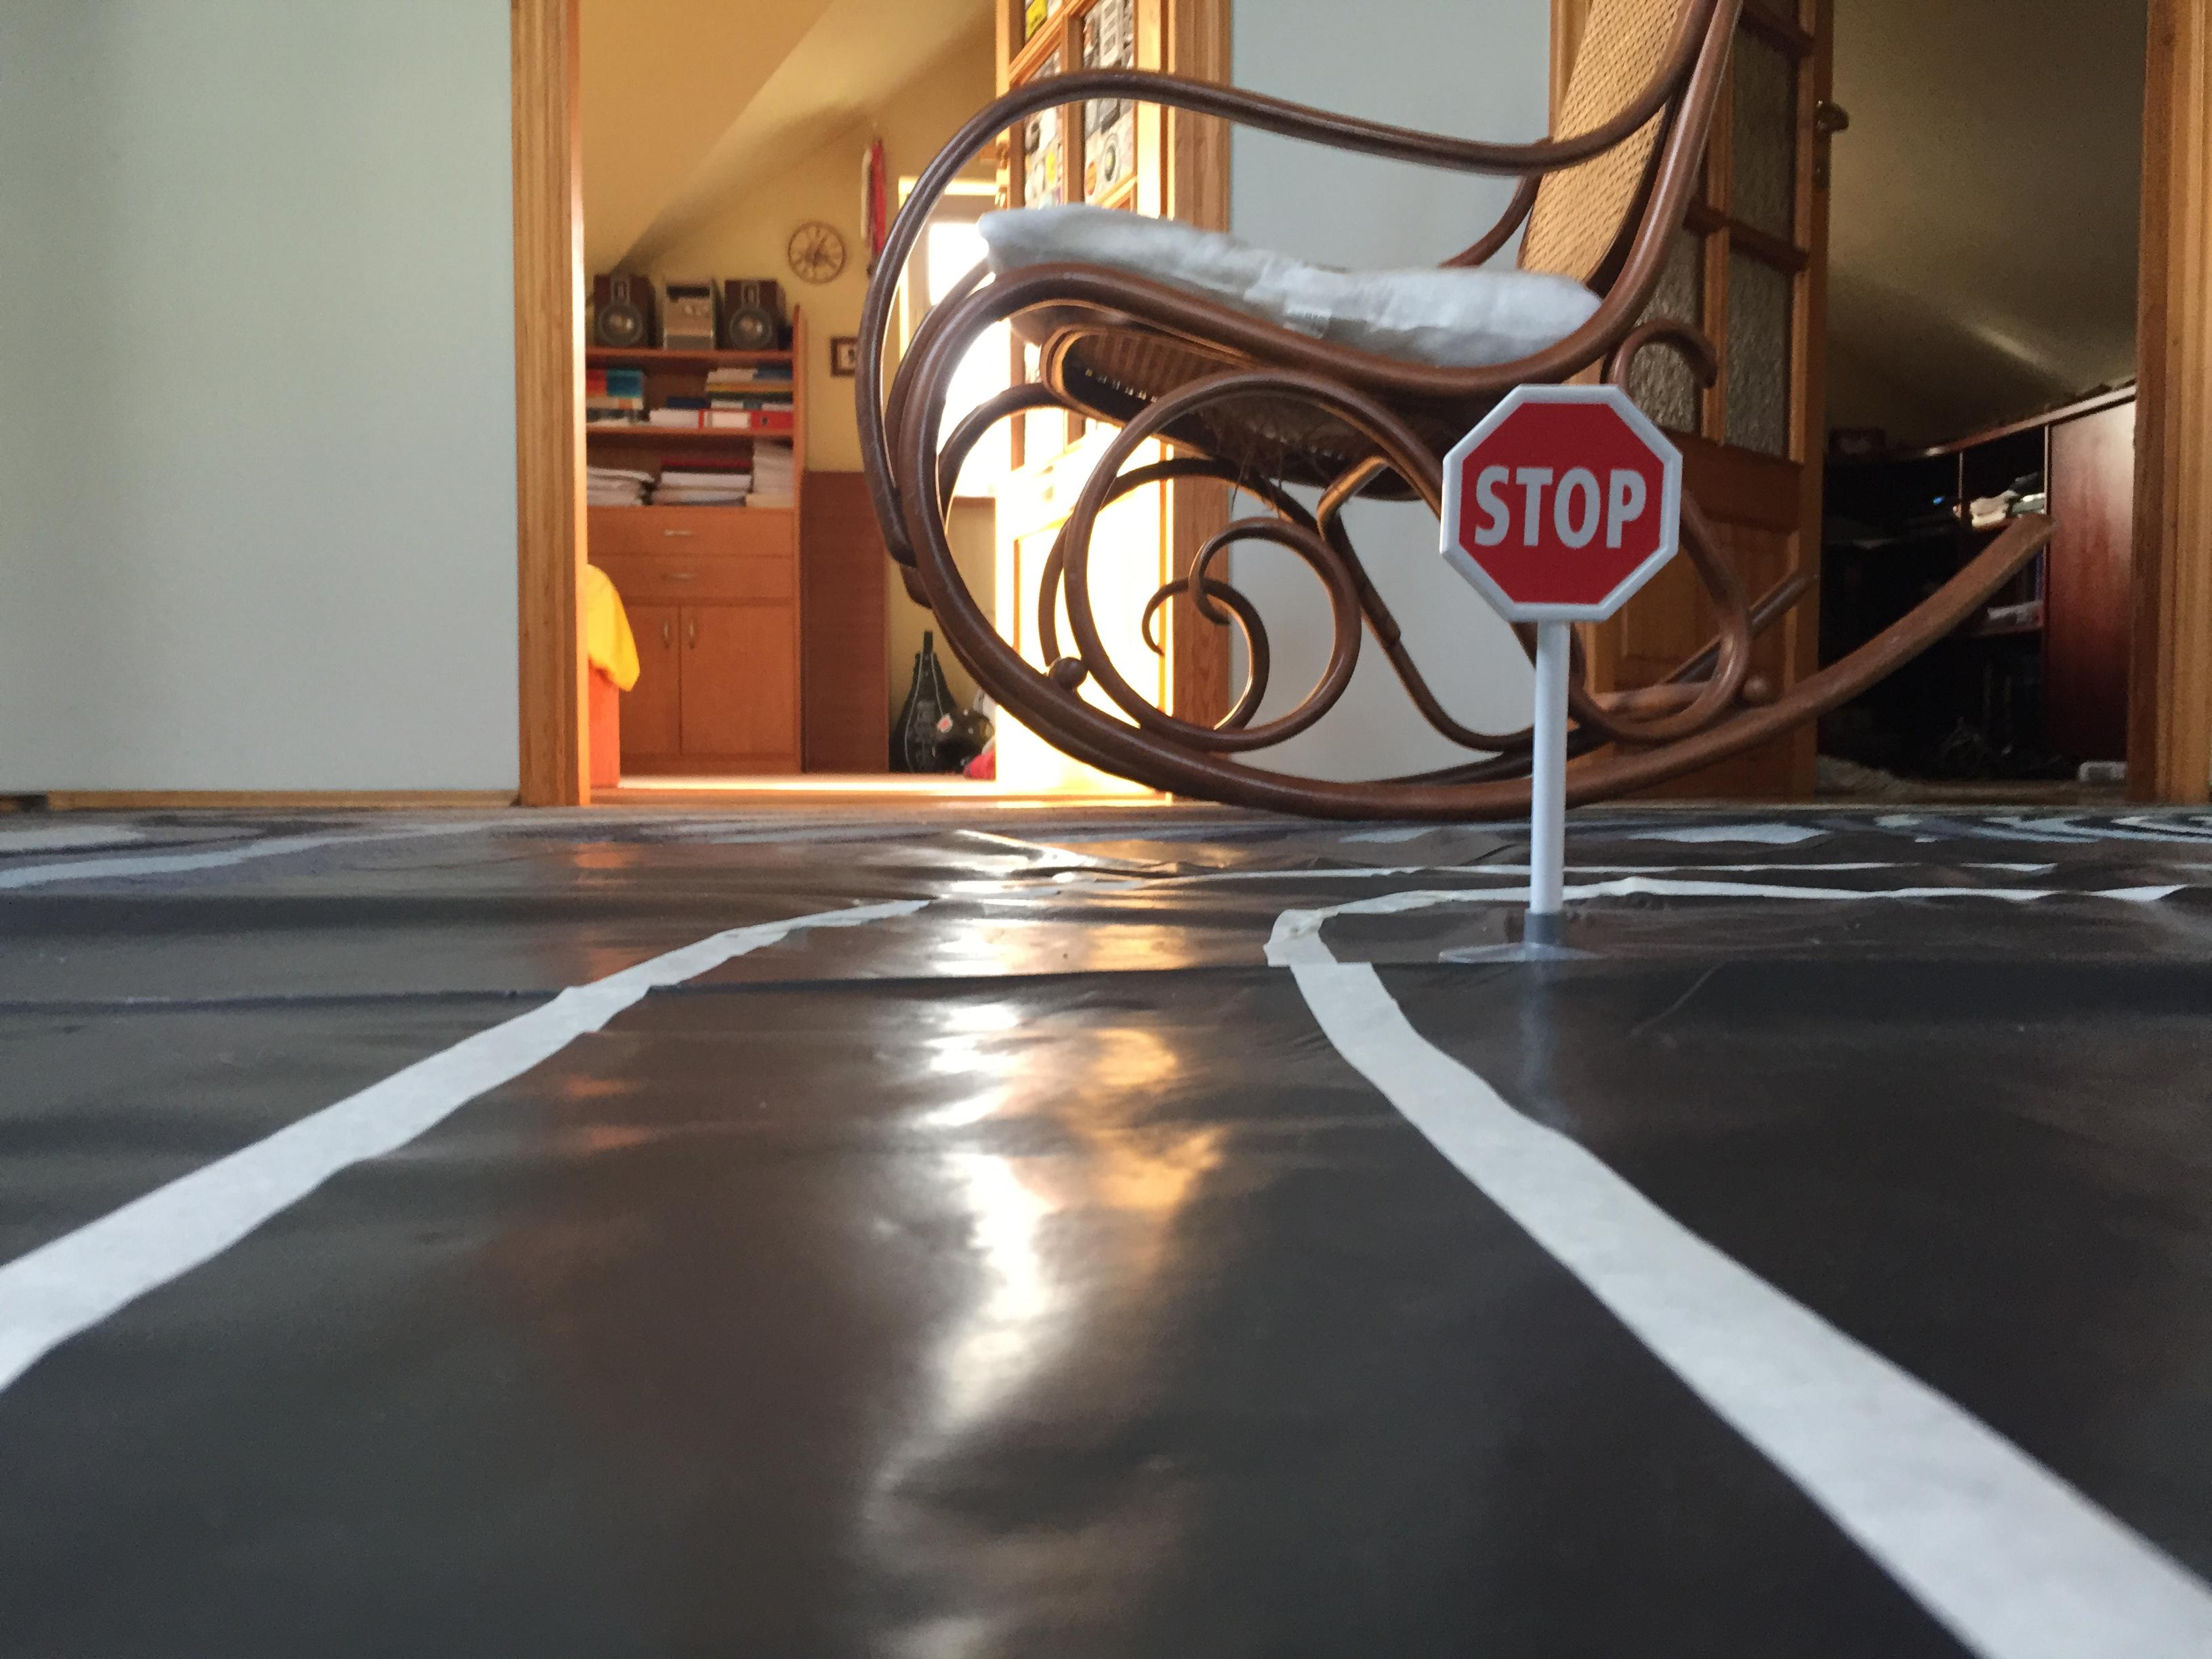stop: (1425, 378, 1696, 629)
